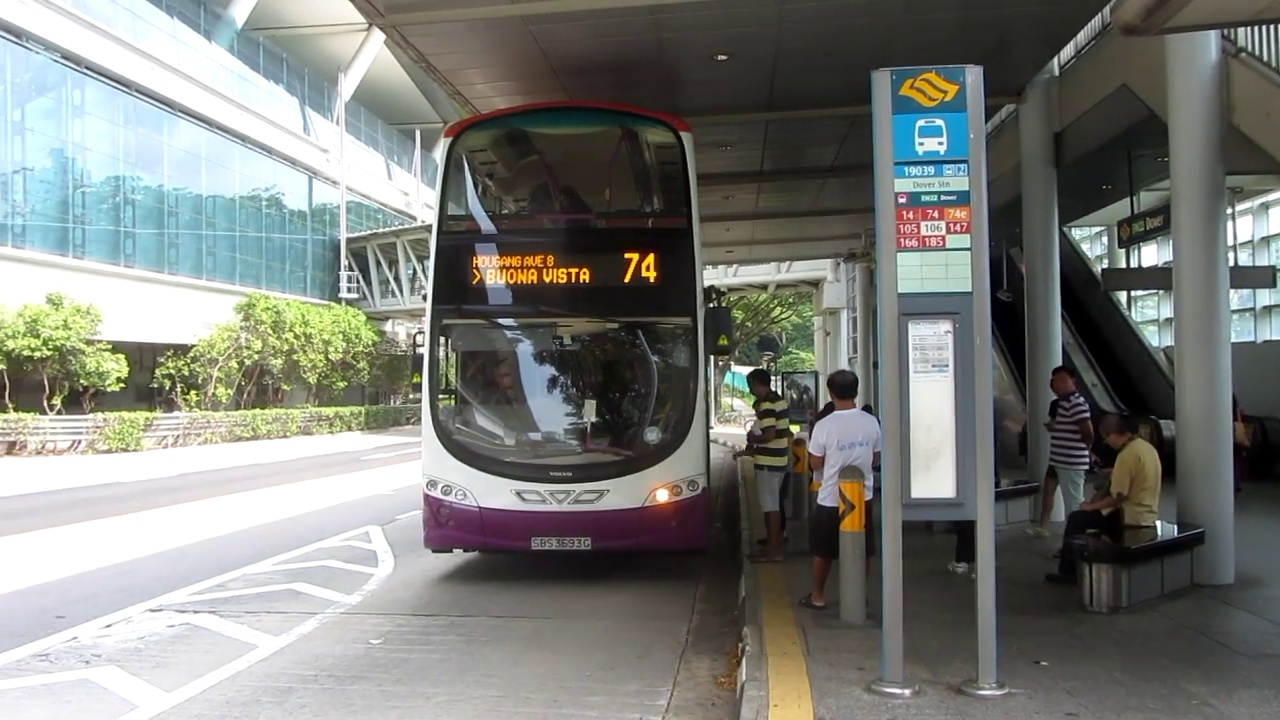bus panel: (464, 248, 664, 291)
